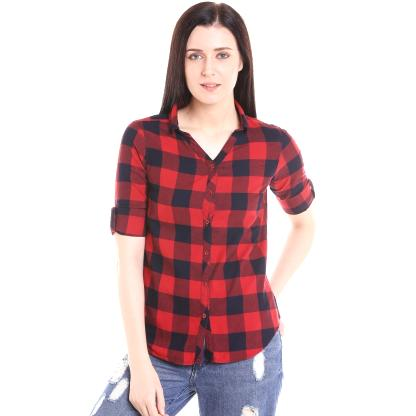dress: (104, 99, 318, 370)
